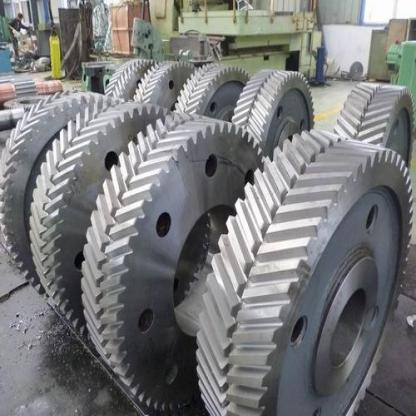FOD: (196, 125, 415, 415), (78, 104, 266, 413), (26, 96, 174, 336), (0, 81, 105, 295), (230, 67, 317, 144), (331, 77, 415, 150), (172, 56, 252, 118)
